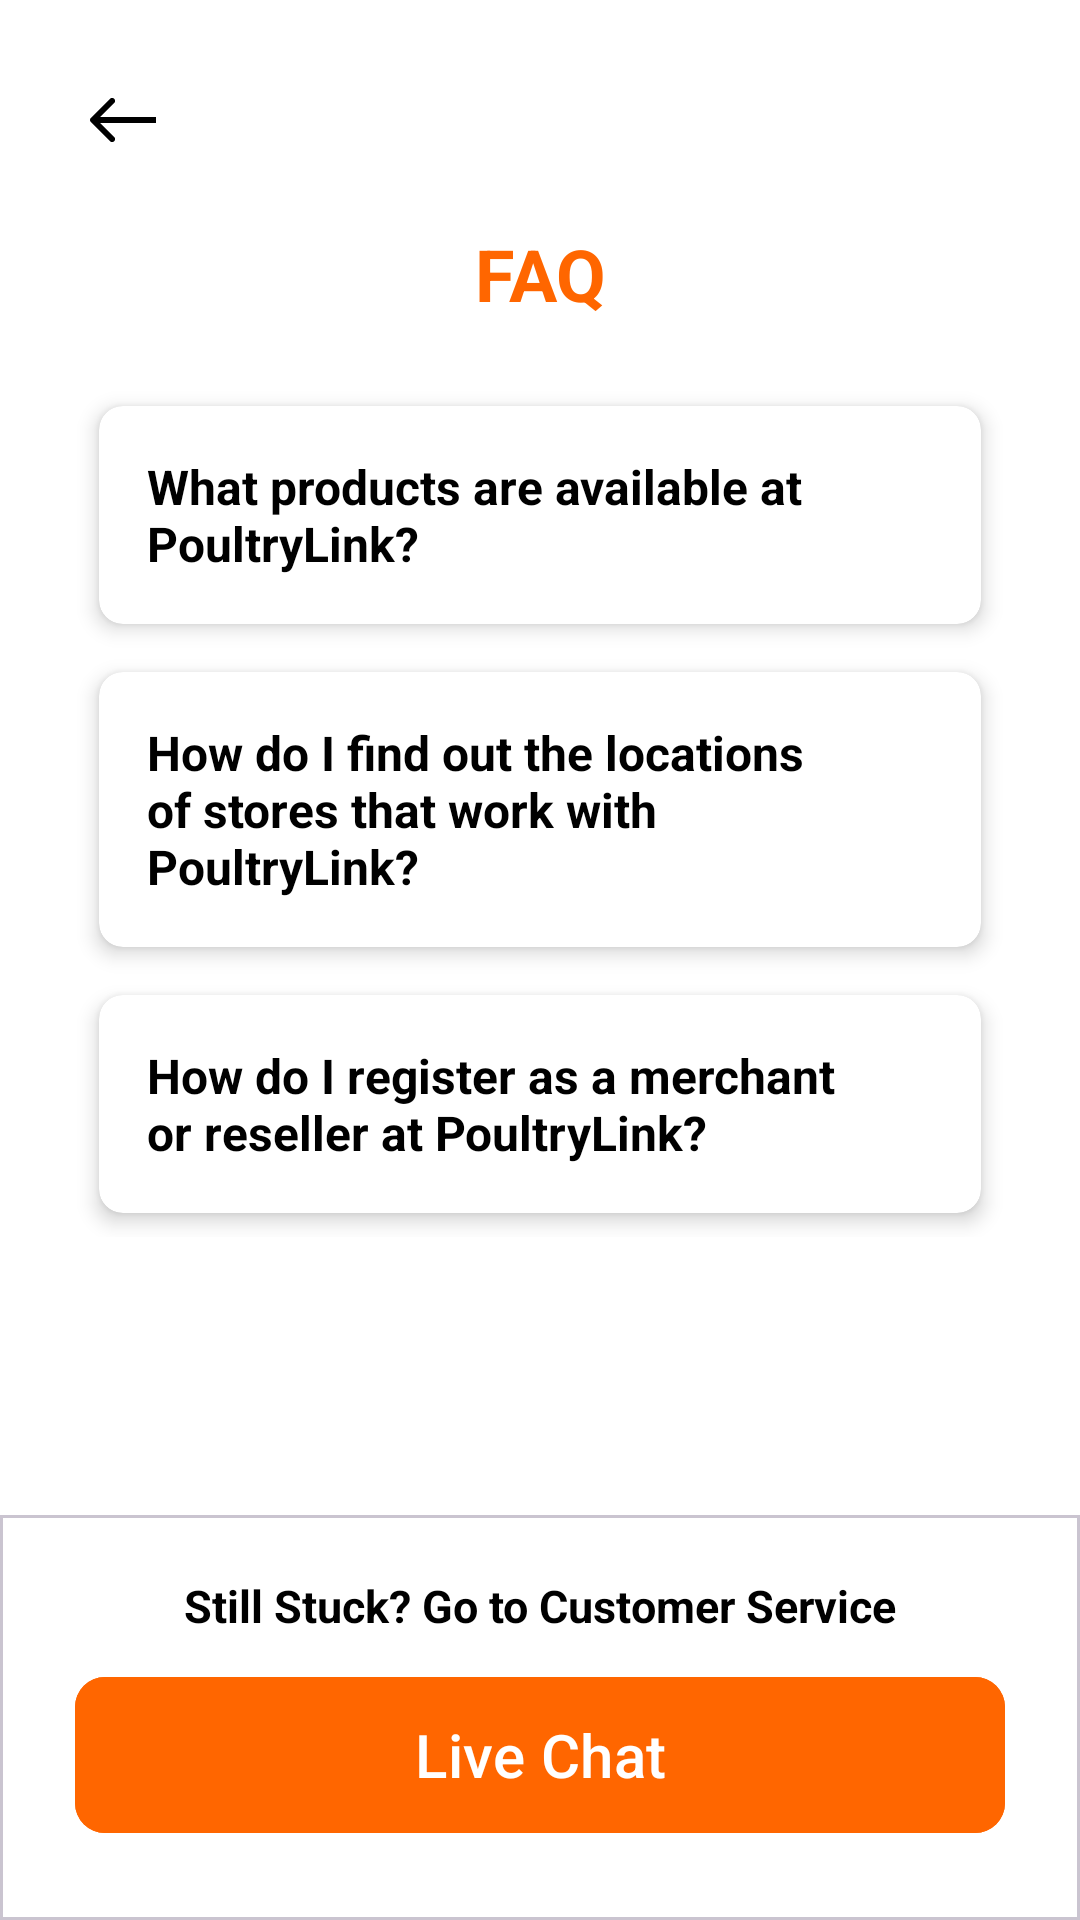

Locate icon controls on the screen. Image size 1080×1920, boxes as {"left": x1, "top": y1, "right": x2, "bottom": y2}.
arrowbackblack: {"left": 90, "top": 98, "right": 156, "bottom": 142}
